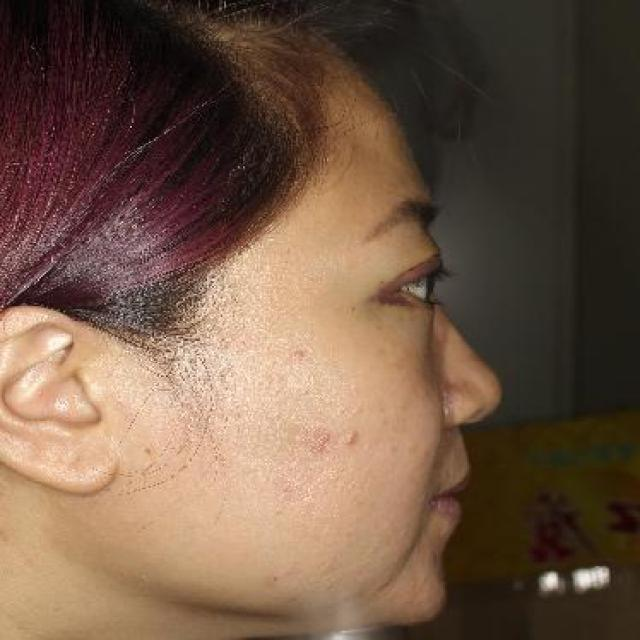dark spot: (298, 425, 339, 457), (286, 343, 306, 362)
pustules: (342, 424, 366, 450)
whiteheads: (260, 343, 276, 359), (248, 377, 265, 391), (269, 404, 284, 418), (267, 383, 284, 395)
